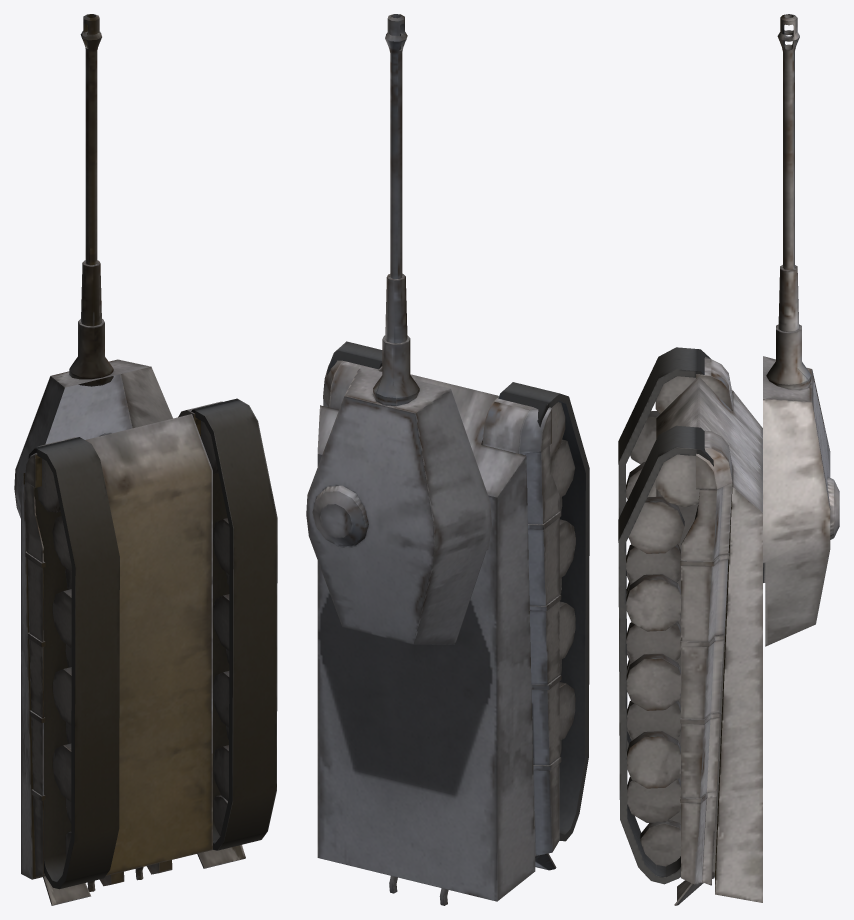
3 renders of one model, left to right at view 1: azimuth 30°, elevation 25°; view 2: azimuth 150°, elevation 25°; view 3: azimuth 270°, elevation 25°, orthographic. The views are drawn at different scales.
Visible parts, largest first — view 1: VK4503H Body, VK4503H Turret; view 2: VK4503H Body, VK4503H Turret; view 3: VK4503H Body, VK4503H Turret.
Boxes of the visible parts, x1,y1,x2,y2 form: VK4503H Body: (21, 398, 277, 905); VK4503H Turret: (14, 14, 172, 518); VK4503H Body: (317, 341, 589, 905); VK4503H Turret: (306, 14, 491, 644); VK4503H Body: (618, 347, 762, 905); VK4503H Turret: (763, 14, 839, 646).
Size of the model in its own units: 129 by 504 by 116.
